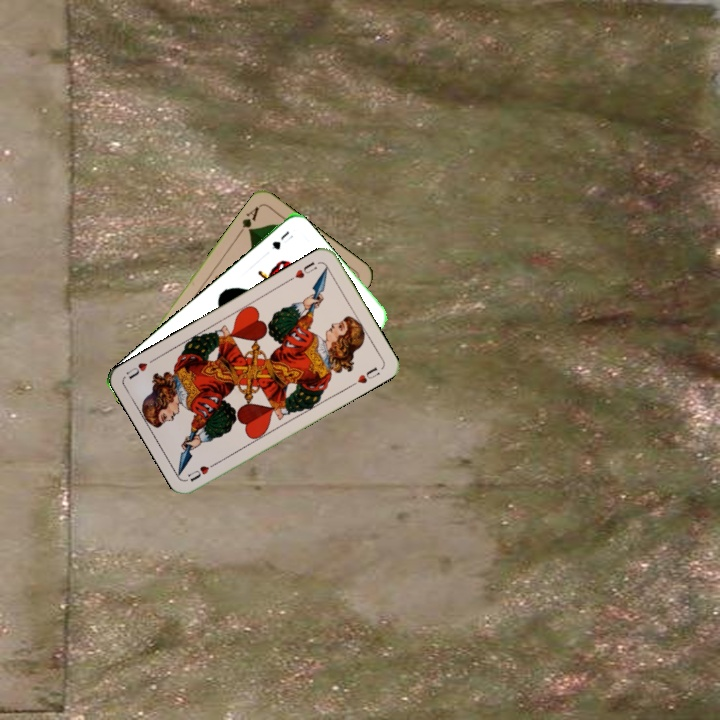GA: (234, 202, 262, 238)
GU: (268, 227, 296, 252)
HU: (184, 458, 221, 484), (291, 257, 320, 281)
